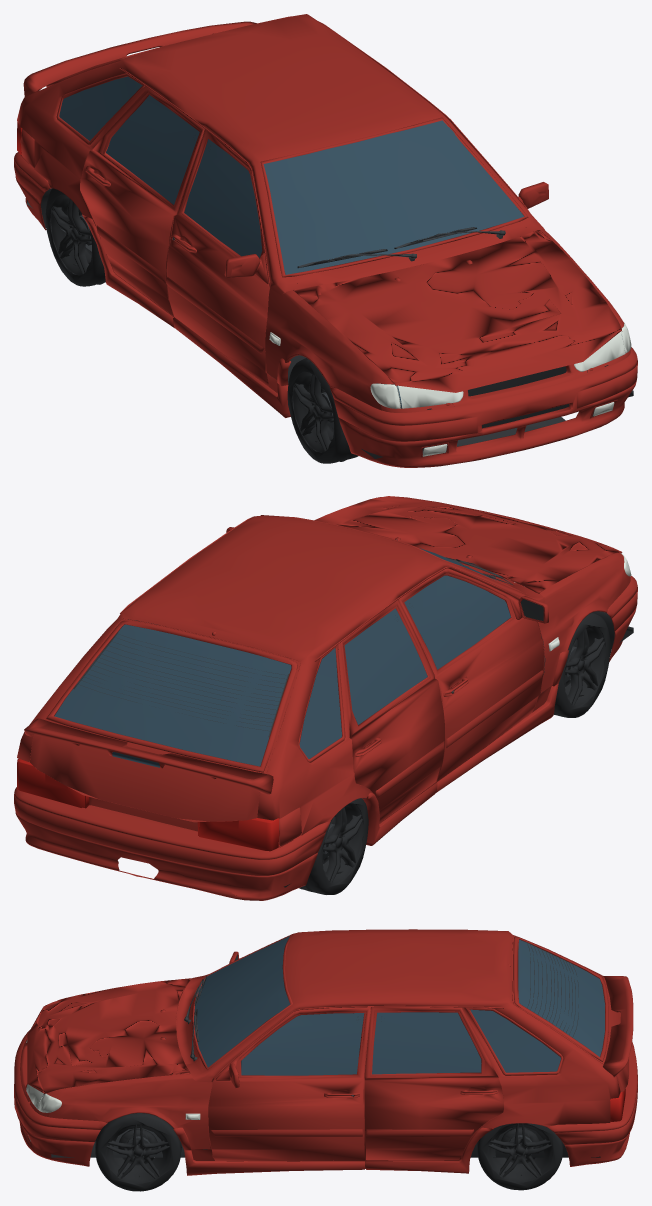
The model's file is vaz2114.glb.
3 renders of one model, top to bottom at view 1: azimuth 30°, elevation 25°; view 2: azimuth 150°, elevation 25°; view 3: azimuth 270°, elevation 25°, orthographic. The views are drawn at different scales.
Visible parts, largest first — view 1: paint, glass, wheel_fr, wheel_rr, headlights, trim, underbody; view 2: paint, glass, wheel_fr, wheel_rr, taillights, trim; view 3: paint, glass, wheel_fl, wheel_rl, trim, underbody, headlights.
Part boxes in pixels (x1,y1,x2,y2): paint: (14, 14, 637, 467); glass: (59, 76, 523, 408); wheel_fr: (287, 358, 358, 463); wheel_rr: (45, 188, 105, 286); headlights: (269, 322, 631, 456); trim: (41, 135, 613, 453); underbody: (27, 200, 633, 458); paint: (14, 496, 637, 900); glass: (54, 548, 510, 767); wheel_fr: (541, 612, 610, 717); wheel_rr: (299, 798, 368, 894); taillights: (17, 758, 279, 851); trim: (73, 539, 614, 737); paint: (14, 929, 637, 1175); glass: (42, 936, 604, 1096); wheel_fl: (95, 1113, 181, 1191); wheel_rl: (477, 1123, 563, 1190); trim: (165, 942, 578, 1096); underbody: (51, 1127, 600, 1157); headlights: (26, 1040, 200, 1140).
Bounding box in the file's own units: 2.03 × 1.37 × 4.32.
